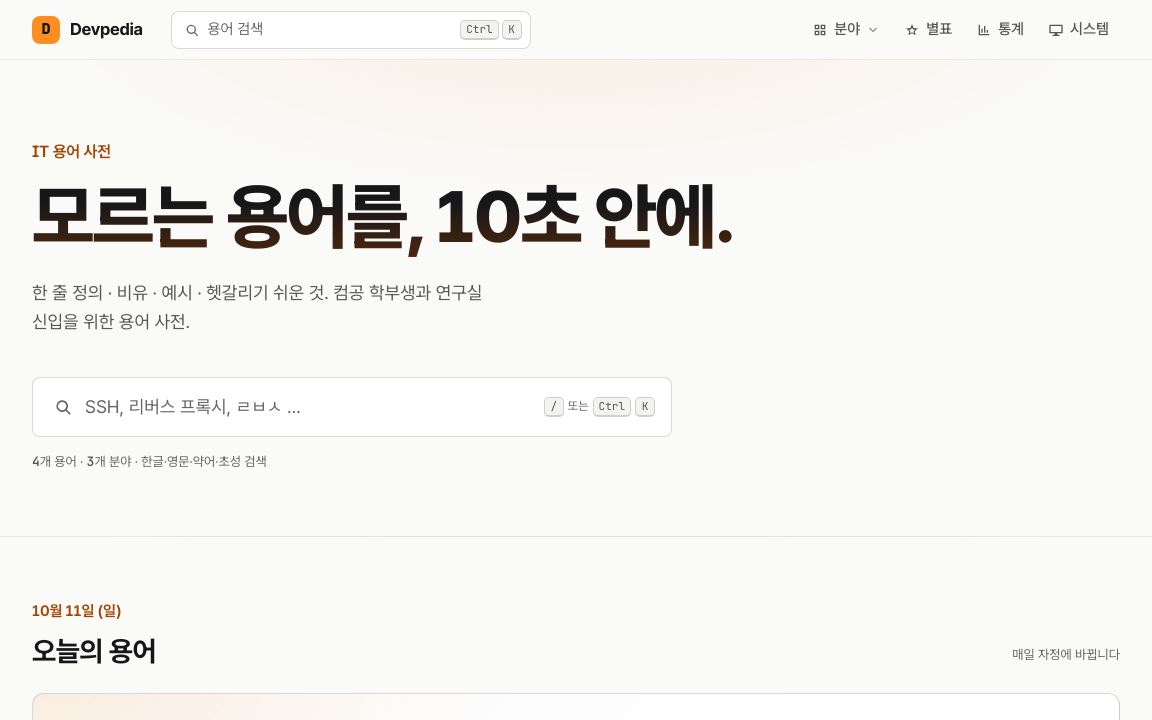
Test: App shell › opens the category menu with every category and closes it on Escape
Click the button "분야". click: (846, 30)
box: [801,12,891,48]
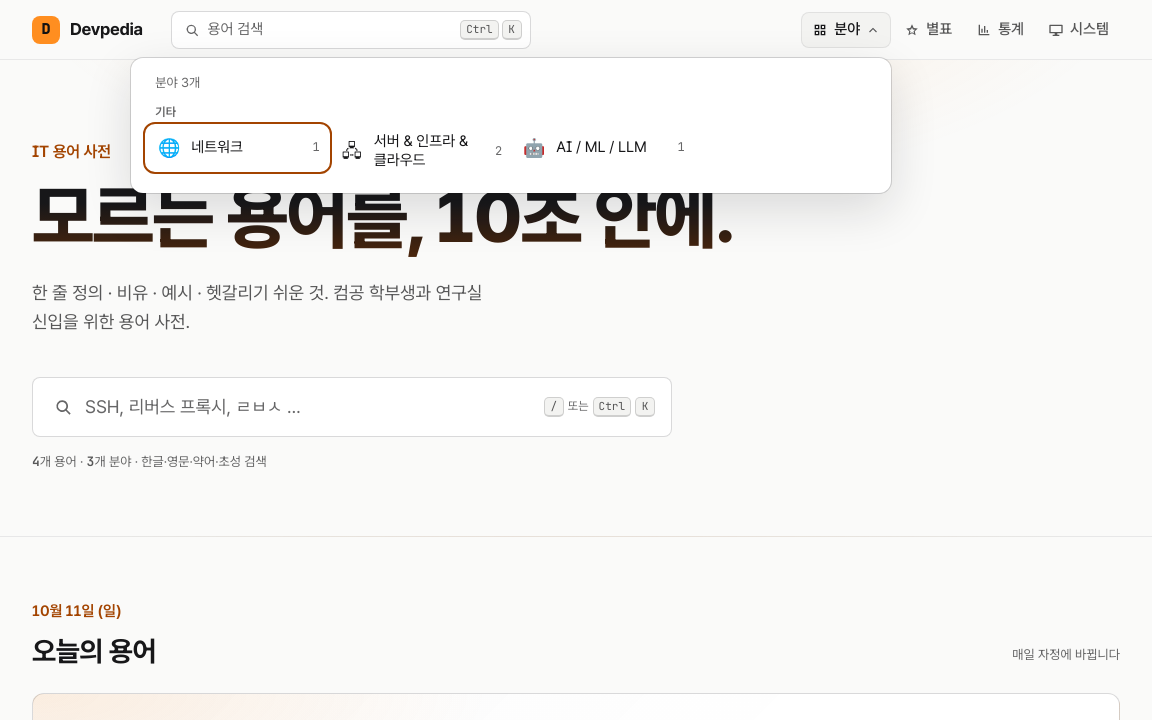
Now the button "분야" is expanded, box [801,12,891,48]
Press Escape
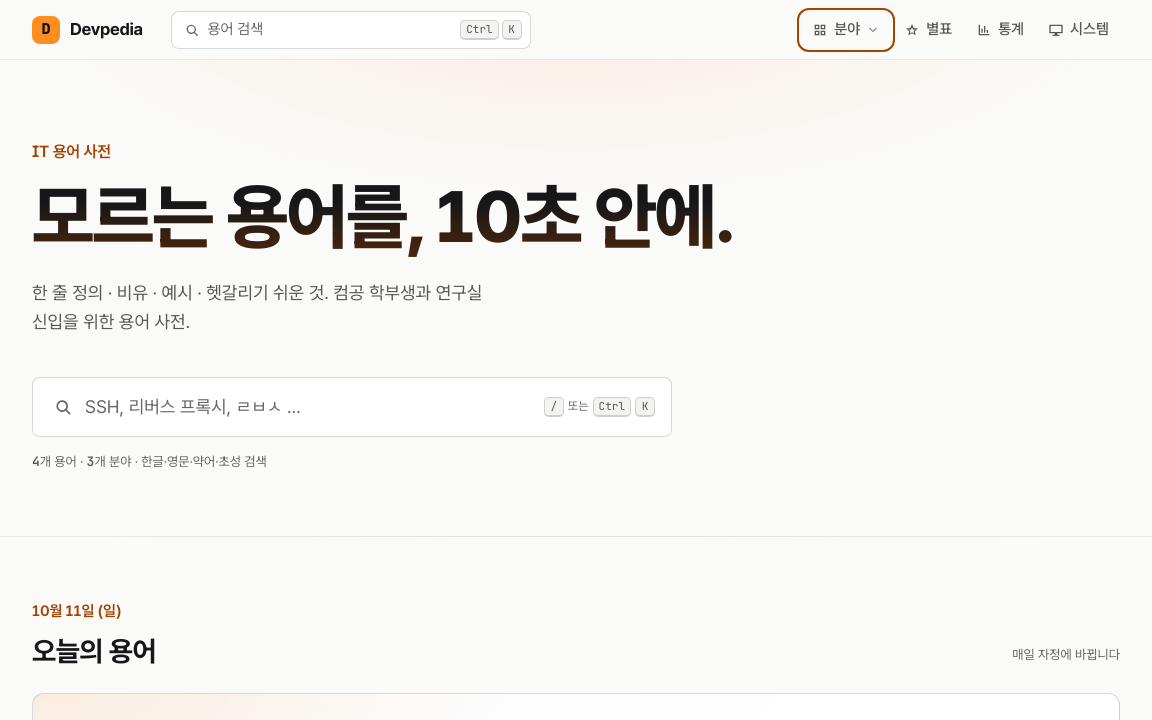
Now the button "분야" is collapsed, box [801,12,891,48]
